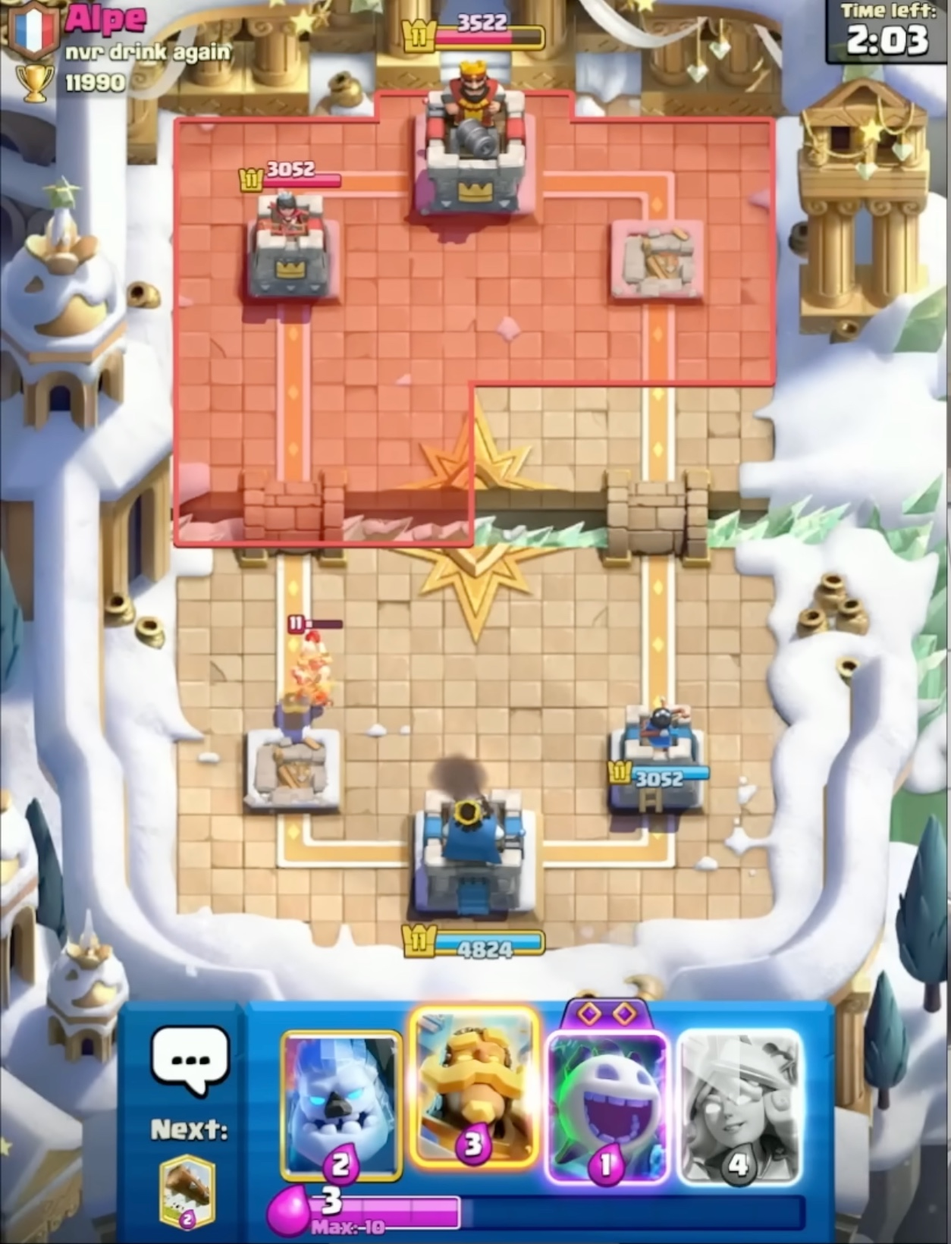hero-musketeer: (279, 610, 348, 715)
